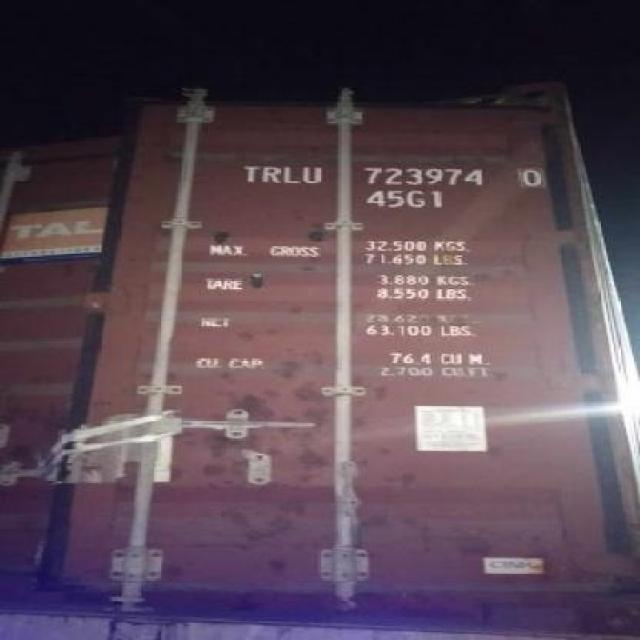ISO: (364, 187, 447, 207)
container_number: (243, 167, 544, 190)
